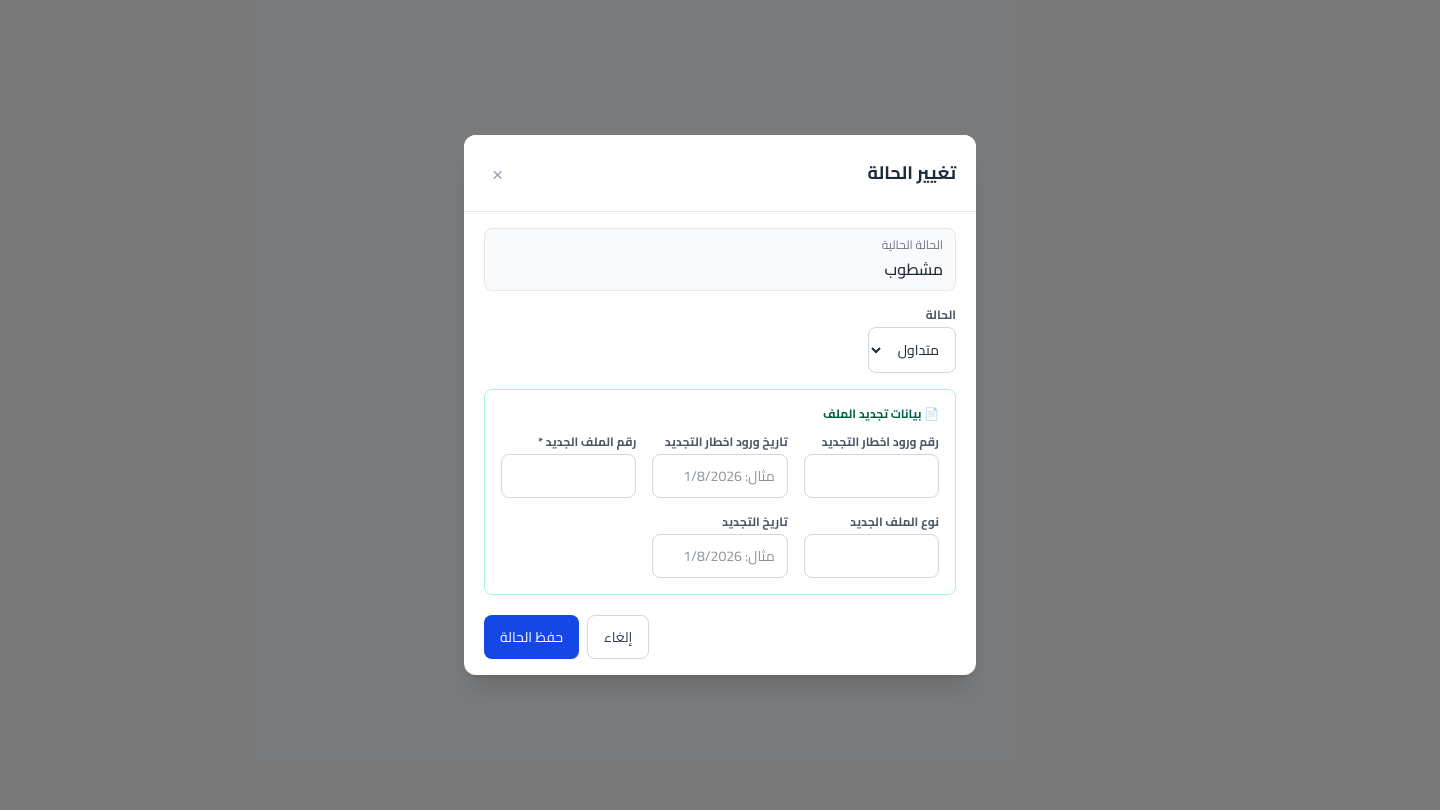
Test: ExecutedStatusModal › يرفض إعادة الملف المشطوب بلا رقم ملف جديد ويعرض رسالة الخلفية
expect the dropdown labelled "الحالة" shows "متداول": met, box x1=868 y1=327 x2=956 y2=373
Step 1. Click the button "حفظ الحالة" → [532, 637], box x1=484 y1=615 x2=579 y2=659
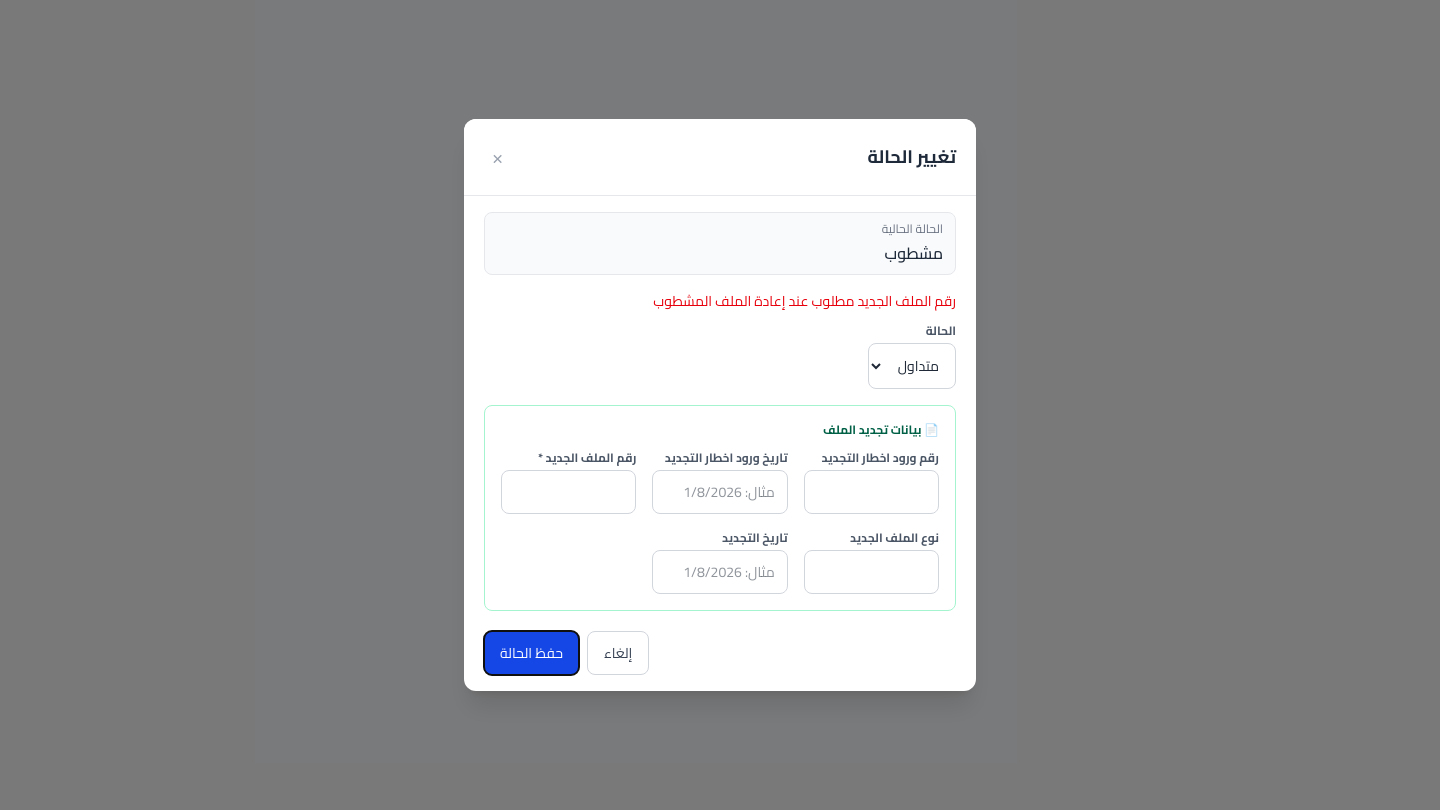
expect the text "رقم الملف الجديد مطلوب عند إعادة الملف المشطوب" is shown: met, box x1=653 y1=288 x2=956 y2=314
